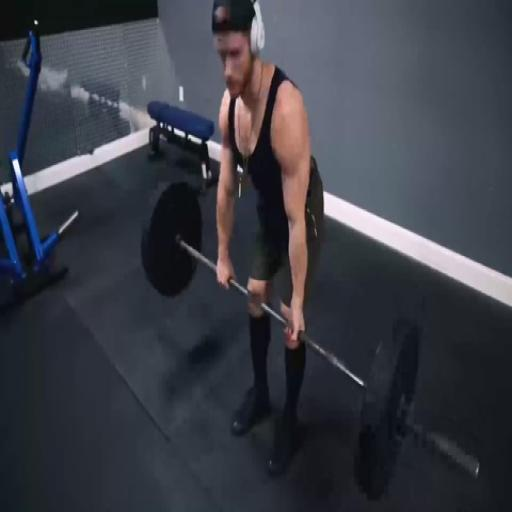exercise: (207, 0, 326, 476)
